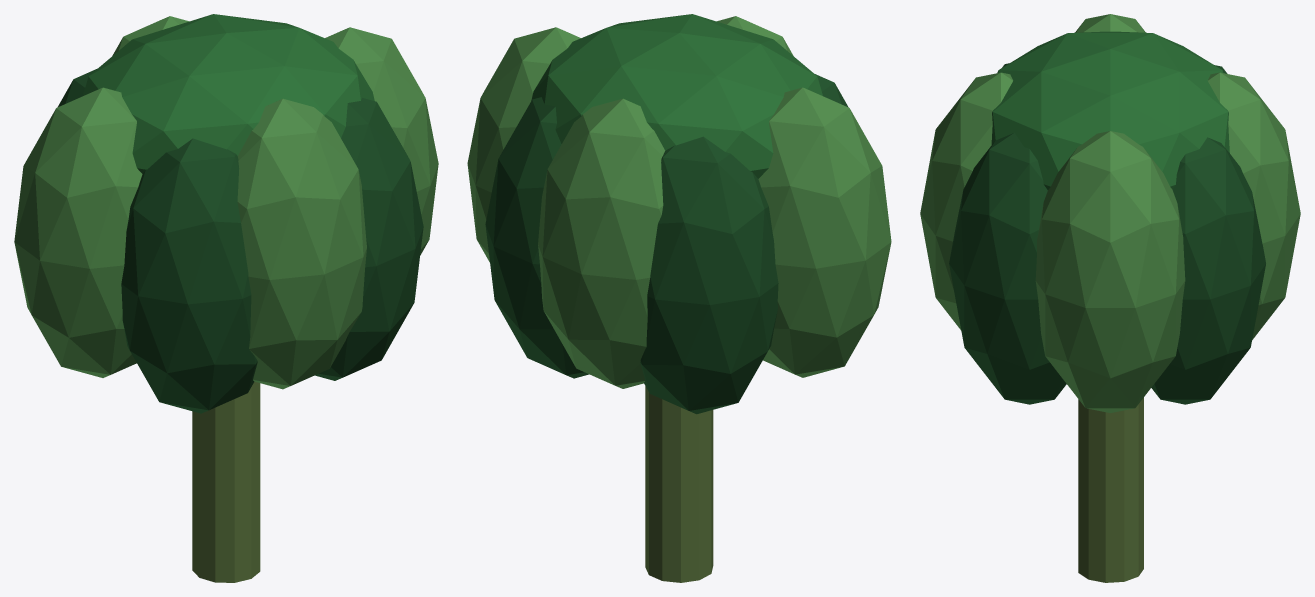
The model's file is SM_MistForestWeepingTree_A.glb.
3 views of the same model, side by side, from view 1: azimuth 30°, elevation 25°; view 2: azimuth 150°, elevation 25°; view 3: azimuth 270°, elevation 25° (orthographic). The views are drawn at different scales.
Parts seen in each view (by area): view 1: SM_MistForestWeepingTree_A; view 2: SM_MistForestWeepingTree_A; view 3: SM_MistForestWeepingTree_A.
Boxes of the visible parts, x1=… form: SM_MistForestWeepingTree_A: x1=14, y1=14, x2=438, y2=582; SM_MistForestWeepingTree_A: x1=467, y1=14, x2=891, y2=582; SM_MistForestWeepingTree_A: x1=920, y1=14, x2=1300, y2=582.
Size of the model in its own units: 7.75 by 9.95 by 6.6.
